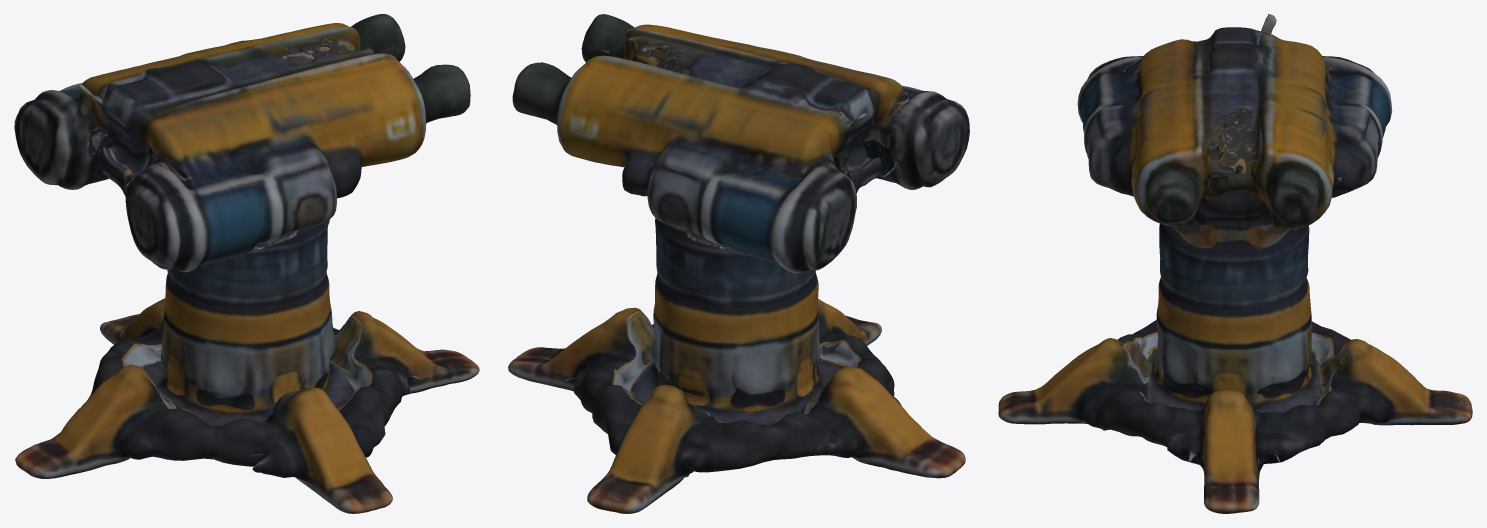
Rendered from 115ebe1f1583_Space_Turret__3d_as.fbx.
3 renders of one model, left to right at view 1: azimuth 30°, elevation 25°; view 2: azimuth 150°, elevation 25°; view 3: azimuth 270°, elevation 25°, orthographic. The views are drawn at different scales.
Parts seen in each view (by area): view 1: mesh; view 2: mesh; view 3: mesh.
Boxes of the visible parts, bbox=[...] form: mesh: bbox=[14, 14, 479, 513]; mesh: bbox=[508, 14, 969, 513]; mesh: bbox=[998, 14, 1472, 513].
Bounding box in the file's own units: 99.57 × 77.35 × 98.53.
